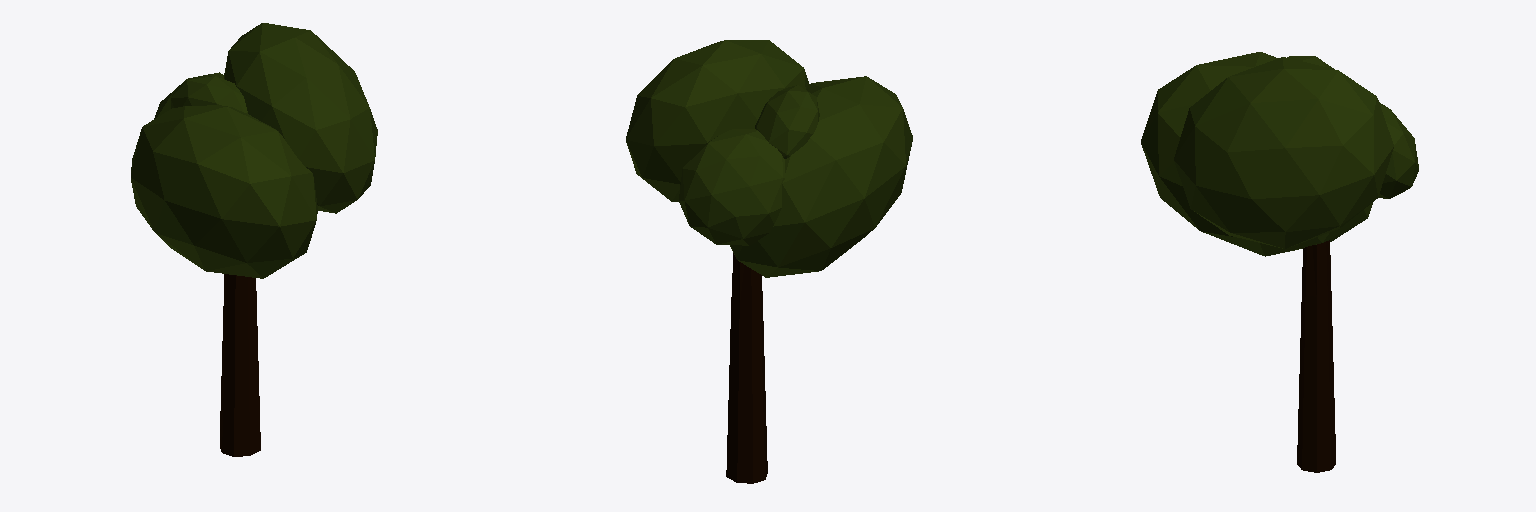
The model's file is tree2.obj.
3 views of the same model, side by side, from view 1: azimuth 30°, elevation 25°; view 2: azimuth 150°, elevation 25°; view 3: azimuth 270°, elevation 25° (orthographic).
Parts seen in each view (by area): view 1: Cube; view 2: Cube; view 3: Cube.
Part boxes in pixels (x1,y1,x2,y2): Cube: (131,23,377,456); Cube: (626,40,912,483); Cube: (1141,52,1418,472).
Size of the model in its own units: 1.15 by 1.99 by 1.21.